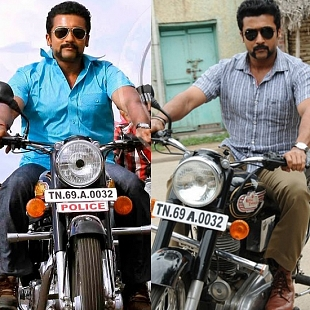motor: (152, 87, 310, 308), (1, 82, 150, 306)
no helmet: (236, 1, 279, 59), (46, 2, 88, 60)
number: (155, 199, 228, 232), (43, 189, 118, 212)
